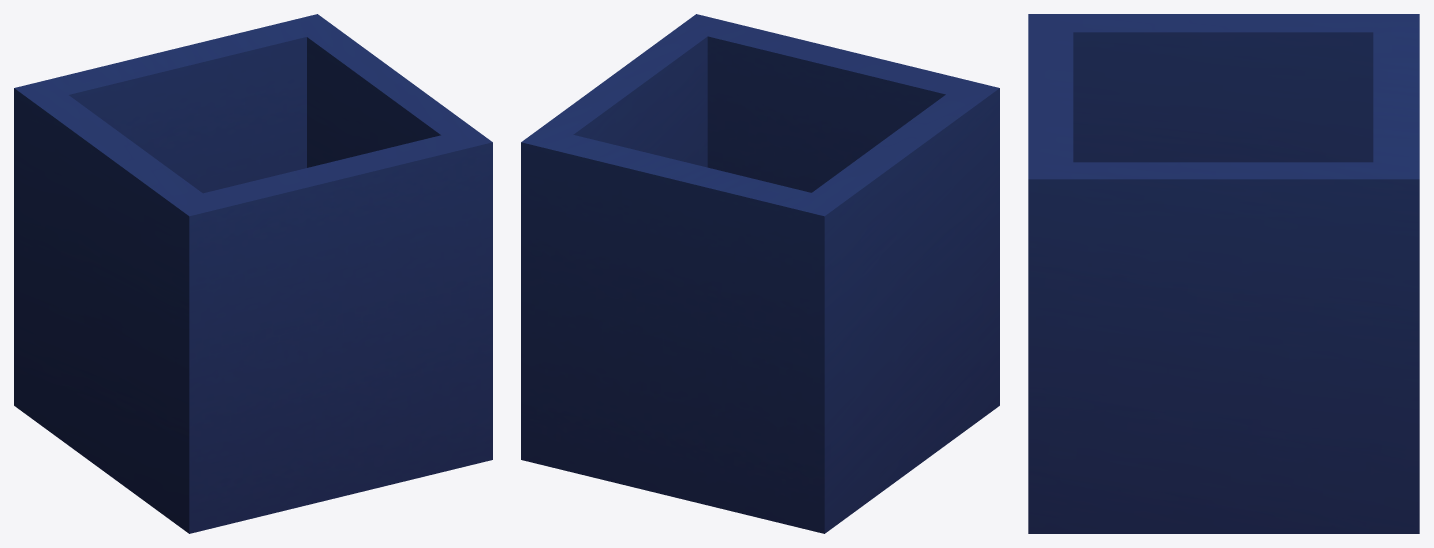
Rendered from hole1.fbx.
3 renders of one model, left to right at view 1: azimuth 30°, elevation 25°; view 2: azimuth 150°, elevation 25°; view 3: azimuth 270°, elevation 25°, orthographic. The views are drawn at different scales.
Visible parts, largest first — view 1: pCube193; view 2: pCube193; view 3: pCube193.
Boxes of the visible parts, x1=… form: pCube193: x1=14, y1=14, x2=492, y2=533; pCube193: x1=521, y1=14, x2=999, y2=533; pCube193: x1=1028, y1=14, x2=1419, y2=533.
Size of the model in its own units: 100 by 100 by 100.
